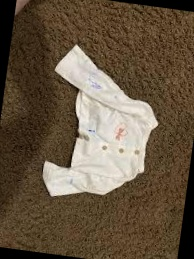ink: (88, 81, 101, 90), (87, 129, 94, 134), (69, 179, 73, 184)
